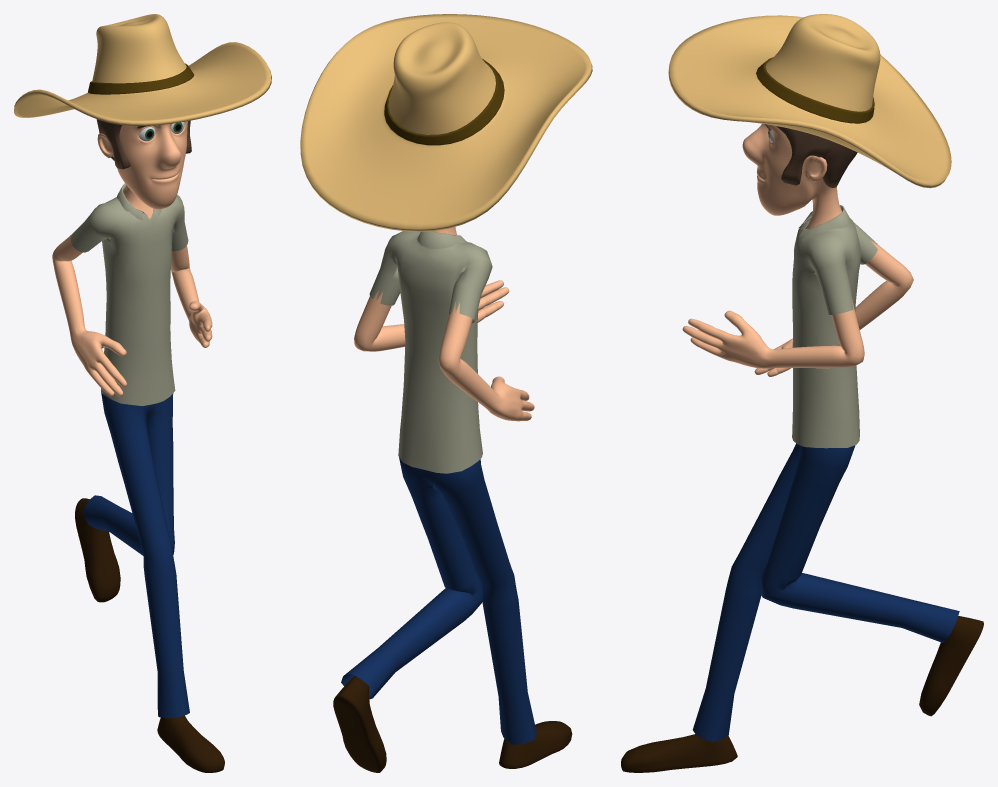
Rendered from GuyRun2.obj.
3 views of the same model, side by side, from view 1: azimuth 30°, elevation 25°; view 2: azimuth 150°, elevation 25°; view 3: azimuth 270°, elevation 25° (orthographic). The views are drawn at different scales.
Bounding box in the file's own units: 2.18 × 7.15 × 3.11.
